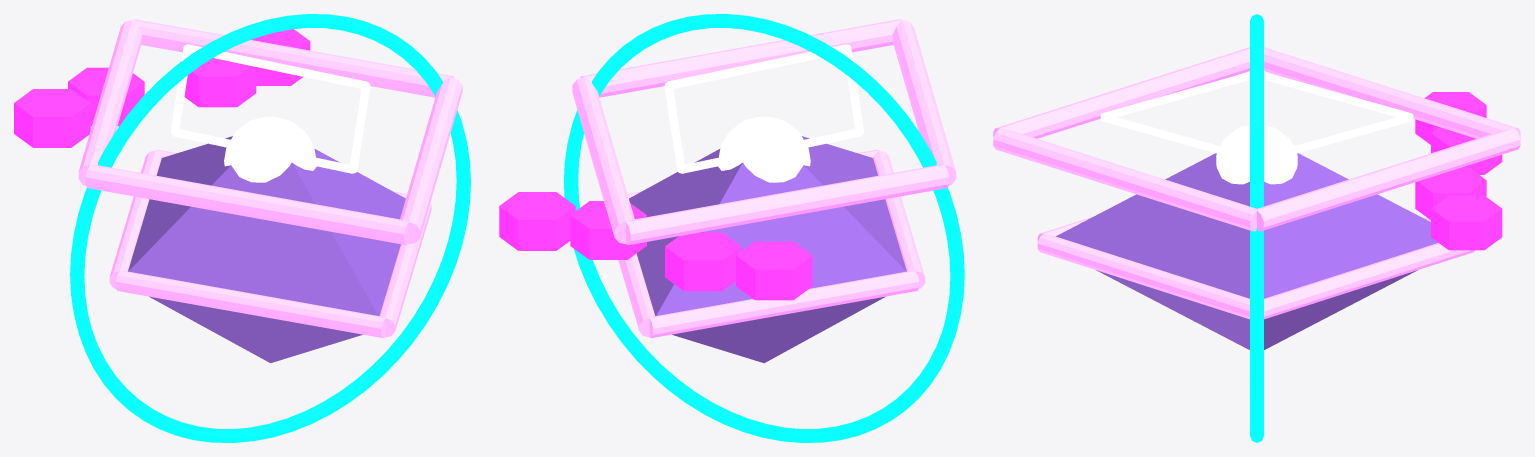
The model's file is prism_warden.glb.
The picture shows the model from 3 angles, left to right: view 1: azimuth 30°, elevation 25°; view 2: azimuth 150°, elevation 25°; view 3: azimuth 270°, elevation 25°; orthographic projection. The views are drawn at different scales.
Visible parts, largest first — view 1: PrismWardenDarkOctahedronBody, PrismWardenCommandRing, PrismWardenReadabilityDiamondRoute2, PrismWardenEdge2, PrismWardenReadabilityDiamondRoute0, PrismWardenCrownHex0, PrismWardenReadabilityDiamondRoute1, PrismWardenWhiteReactor, PrismWardenReadabilityDiamondRoute3, PrismWardenCrownHex2, PrismWardenEdge1, PrismWardenEdge3 (+6 smaller); view 2: PrismWardenDarkOctahedronBody, PrismWardenCommandRing, PrismWardenReadabilityDiamondRoute3, PrismWardenReadabilityDiamondRoute1, PrismWardenEdge3, PrismWardenCrownHex0, PrismWardenReadabilityDiamondRoute0, PrismWardenCrownHex3, PrismWardenCrownHex1, PrismWardenWhiteReactor, PrismWardenReadabilityDiamondRoute2, PrismWardenCrownHex2 (+6 smaller); view 3: PrismWardenDarkOctahedronBody, PrismWardenReadabilityDiamondRoute0, PrismWardenReadabilityDiamondRoute1, PrismWardenCommandRing, PrismWardenReadabilityDiamondRoute2, PrismWardenReadabilityDiamondRoute3, PrismWardenEdge1, PrismWardenEdge0, PrismWardenCrownHex3, PrismWardenWhiteReactor, PrismWardenCrownHex2, PrismWardenReadabilityWhiteRoute0 (+5 smaller).
Part boxes in pixels (x1,y1,x2,y2): PrismWardenDarkOctahedronBody: (128,136,405,363); PrismWardenCommandRing: (70,14,470,442); PrismWardenReadabilityDiamondRoute2: (85,165,408,244); PrismWardenEdge2: (115,271,385,337); PrismWardenReadabilityDiamondRoute0: (133,19,454,97); PrismWardenCrownHex0: (14,89,90,147); PrismWardenReadabilityDiamondRoute1: (400,77,462,244); PrismWardenWhiteReactor: (224,116,316,182); PrismWardenReadabilityDiamondRoute3: (78,20,141,185); PrismWardenCrownHex2: (180,54,256,107); PrismWardenEdge1: (379,203,431,337); PrismWardenEdge3: (109,150,161,288); PrismWardenDarkOctahedronBody: (629,136,906,363); PrismWardenCommandRing: (564,14,964,442); PrismWardenReadabilityDiamondRoute3: (626,165,949,244); PrismWardenReadabilityDiamondRoute1: (580,19,901,97); PrismWardenEdge3: (649,271,918,337); PrismWardenCrownHex0: (736,241,812,300); PrismWardenReadabilityDiamondRoute0: (572,77,634,244); PrismWardenCrownHex3: (499,192,575,250); PrismWardenCrownHex1: (665,232,741,291); PrismWardenWhiteReactor: (718,116,810,182); PrismWardenReadabilityDiamondRoute2: (892,20,956,185); PrismWardenCrownHex2: (570,201,646,259); PrismWardenDarkOctahedronBody: (1056,153,1438,349); PrismWardenReadabilityDiamondRoute0: (1257,128,1520,231); PrismWardenReadabilityDiamondRoute1: (993,128,1256,231); PrismWardenCommandRing: (1250,14,1263,442); PrismWardenReadabilityDiamondRoute2: (993,47,1249,138); PrismWardenReadabilityDiamondRoute3: (1264,47,1520,138); PrismWardenEdge1: (1037,234,1249,319); PrismWardenEdge0: (1264,243,1474,319); PrismWardenCrownHex3: (1431,195,1502,250); PrismWardenWhiteReactor: (1216,125,1297,184); PrismWardenCrownHex2: (1415,167,1486,219); PrismWardenReadabilityWhiteRoute0: (1264,114,1413,162).
Size of the model in its own units: 2.3 by 2.3 by 2.83.
